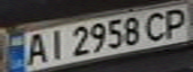2: (66, 23, 90, 57)
5: (106, 16, 127, 50)
8: (121, 13, 145, 46)
9: (87, 20, 112, 54)
A: (18, 30, 51, 66)
C: (139, 9, 172, 42)
I: (42, 27, 69, 61)
P: (157, 6, 193, 38)
